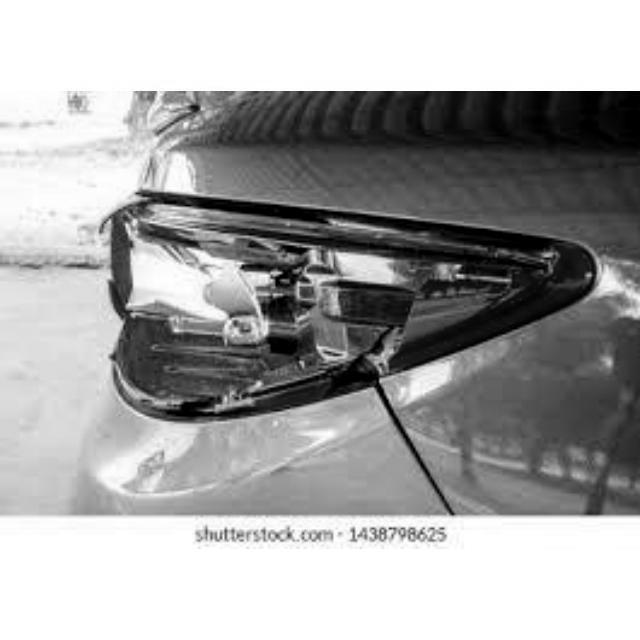Taillight-Damage: (92, 193, 594, 432)
